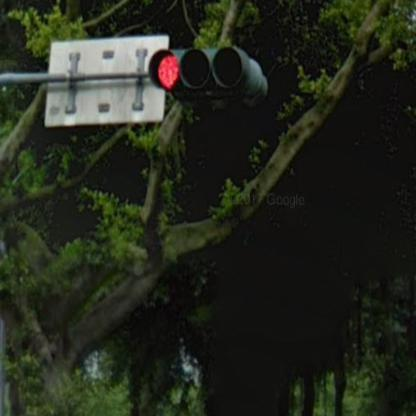Red Light: (144, 48, 260, 99)
